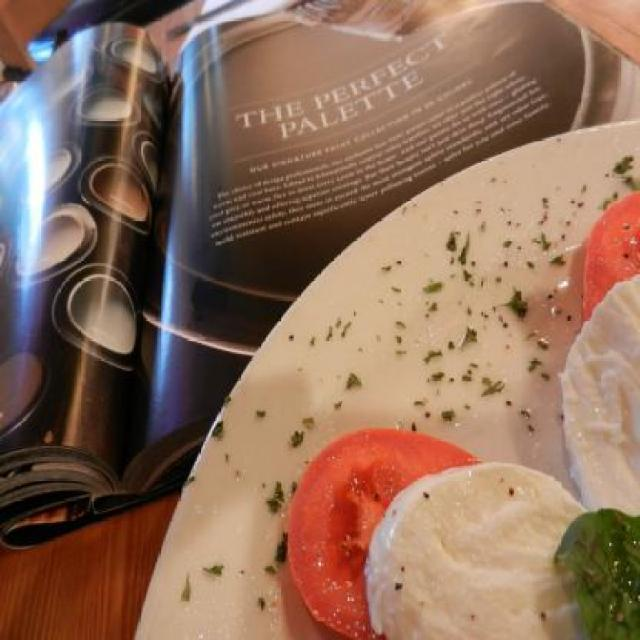Cheese: (133, 117, 639, 640), (364, 454, 592, 640), (558, 273, 640, 516)
